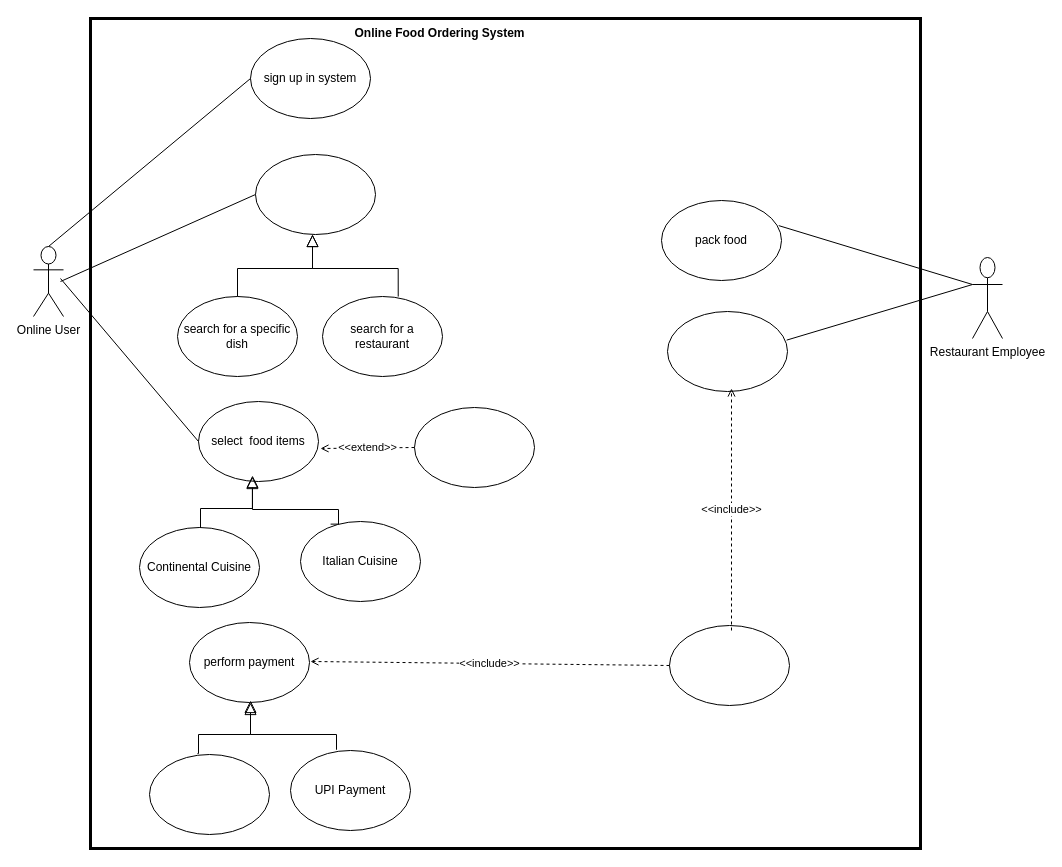
Image size: 1062x867. Some labels were removed from this diagram. The shapes that lost their labels are listed below. From the top down, each one's centre as x and y in pixels, then its label:
At point 315,194: "search food items".
At point 727,351: "order is received".
At point 474,447: "add items to cart".
At point 729,665: "order is placed".
At point 209,794: "Card Payment".
